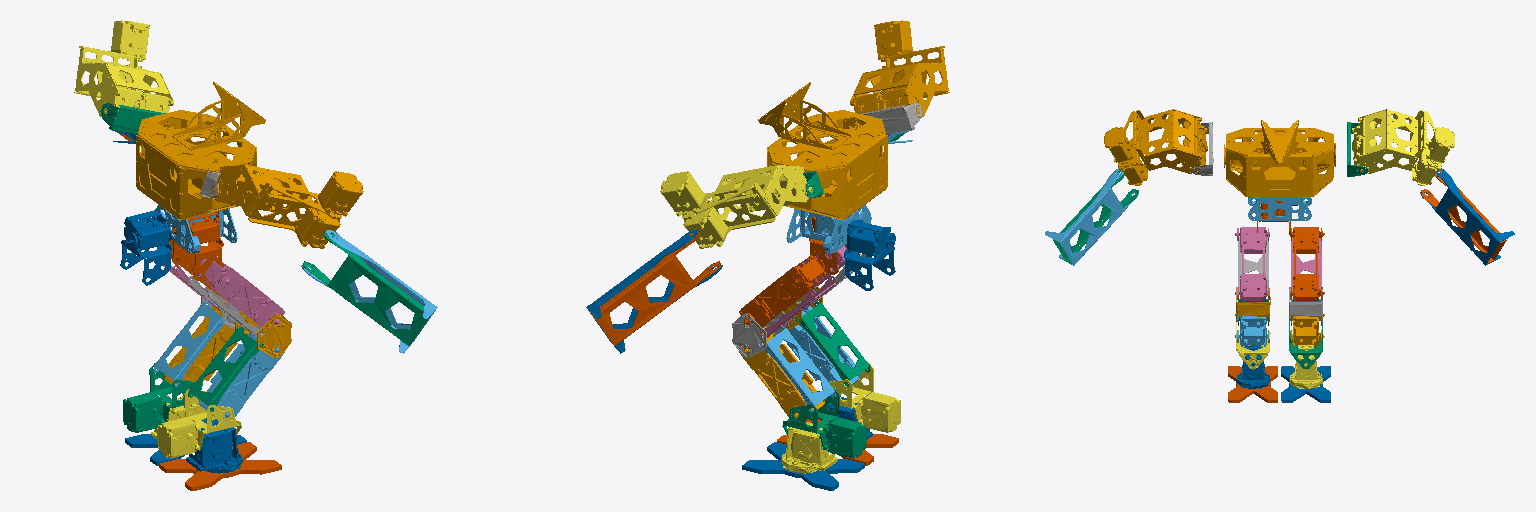
--- Render facts (derived) ---
The picture shows the robot from 3 angles, left to right: view 1: azimuth 30°, elevation 25°; view 2: azimuth 150°, elevation 25°; view 3: azimuth 270°, elevation 25°; orthographic projection.
Model ginko with 30 links and 29 joints (29 revolute), rooted at body_link0, posed every joint at zero.
Links seen in each view (by area): view 1: body_link0, arm_r_link1, arm_l_link1, arm_r_link3, leg_l_link0, leg_r_link6, leg_l_link6, leg_r_link1, leg_r_link4, leg_l_link5, leg_r_link5, leg_r_link8 (+9 smaller); view 2: body_link0, arm_l_link1, arm_r_link1, arm_l_link3, leg_l_link6, leg_l_link0, leg_l_link1, leg_r_link6, leg_l_link4, body_link1, leg_r_link5, leg_l_link5 (+9 smaller); view 3: body_link0, arm_l_link1, arm_r_link1, arm_r_link2, arm_l_link2, leg_r_link1, leg_l_link1, body_link1, arm_l_link3, arm_r_link3, leg_r_link8, leg_l_link8 (+8 smaller).
Link boxes in pixels (left/top/right/bottom): body_link0: left=136, top=82, right=265, bottom=219; arm_r_link1: left=211, top=165, right=363, bottom=248; arm_l_link1: left=74, top=20, right=173, bottom=118; arm_r_link3: left=302, top=232, right=434, bottom=345; leg_l_link0: left=120, top=210, right=171, bottom=285; leg_r_link6: left=157, top=389, right=241, bottom=458; leg_l_link6: left=123, top=363, right=194, bottom=432; leg_r_link1: left=198, top=257, right=284, bottom=327; leg_r_link4: left=198, top=327, right=284, bottom=420; leg_l_link5: left=153, top=301, right=229, bottom=386; leg_r_link5: left=188, top=327, right=263, bottom=411; leg_r_link8: left=159, top=442, right=281, bottom=490; body_link0: left=758, top=82, right=887, bottom=219; arm_l_link1: left=660, top=165, right=813, bottom=248; arm_r_link1: left=850, top=20, right=949, bottom=116; arm_l_link3: left=589, top=232, right=721, bottom=345; leg_l_link6: left=782, top=389, right=866, bottom=458; leg_l_link0: left=844, top=220, right=895, bottom=290; leg_l_link1: left=739, top=255, right=826, bottom=326; leg_r_link6: left=829, top=363, right=900, bottom=432; leg_l_link4: left=739, top=327, right=825, bottom=417; body_link1: left=786, top=205, right=871, bottom=253; leg_r_link5: left=794, top=301, right=870, bottom=386; leg_l_link5: left=760, top=327, right=835, bottom=411; body_link0: left=1224, top=120, right=1335, bottom=196; arm_l_link1: left=1352, top=109, right=1454, bottom=185; arm_r_link1: left=1104, top=109, right=1207, bottom=185; arm_r_link2: left=1045, top=168, right=1138, bottom=265; arm_l_link2: left=1420, top=168, right=1514, bottom=265; leg_r_link1: left=1235, top=227, right=1269, bottom=300; leg_l_link1: left=1290, top=227, right=1324, bottom=300; body_link1: left=1248, top=197, right=1311, bottom=220; arm_l_link3: left=1421, top=170, right=1506, bottom=263; arm_r_link3: left=1053, top=170, right=1138, bottom=263; leg_r_link8: left=1228, top=366, right=1277, bottom=402; leg_l_link8: left=1281, top=366, right=1330, bottom=402.
Bounding box of the posed robot: 0.2318 × 0.7537 × 0.4849 m (x, y, z).
28 mesh visuals loaded from 25 distinct referenced files (24 binary STL); not drawn: 2 (reference not matched to a file when rendering).

URDF robot description (ginko):
<?xml version="1.0" ?>
<!-- =================================================================================== -->
<!-- |    This document was autogenerated by xacro from ./urdf_viz/robot_gazebo.urdf.xacro | -->
<!-- |    EDITING THIS FILE BY HAND IS NOT RECOMMENDED                                 | -->
<!-- =================================================================================== -->
<robot name="ginko" xmlns:xacro="http://www.ros.org/wiki/xacro">
  <!-- Used for fixing robot to Gazebo 'base_link' -->
  <!-- <link name="base"/> -->
  <gazebo>
    <plugin filename="libgazebo_ros_control.so" name="gazebo_ros_control">
      <robotNamespace>/ginko</robotNamespace>
      <robotSimType>gazebo_ros_control/DefaultRobotHWSim</robotSimType>
    </plugin>
  </gazebo>
  <!-- chest -->
  <link name="body_link0">
    <collision>
      <origin rpy="0 0 0" xyz="0 0 0"/>
      <geometry>
        <mesh filename="package://ginko_description/meshes/stl/link00_chest.stl"/>
      </geometry>
    </collision>
    <visual>
      <origin rpy="0 0 0" xyz="0 0 0"/>
      <geometry>
        <mesh filename="package://ginko_description/meshes/stl/link00_chest.stl"/>
      </geometry>
    </visual>
    <inertial>
      <mass value="1.41502697"/>
      <origin rpy="0 0 0" xyz="0.00008301 0.00000908 0.03819562"/>
      <inertia ixx="0.00248548" ixy="-0.00000074" ixz="0.000003761" iyy="0.00121388" iyz="-0.00000042" izz="0.00287756"/>
    </inertial>
  </link>
  <!-- waist -->
  <link name="body_link1">
    <collision>
      <origin rpy="0 0 0" xyz="0 0 0"/>
      <geometry>
        <mesh filename="package://ginko_description/meshes/stl/link01_waist.stl"/>
      </geometry>
    </collision>
    <visual>
      <origin rpy="0 0 0" xyz="0 0 0"/>
      <geometry>
        <mesh filename="package://ginko_description/meshes/stl/link01_waist.stl"/>
      </geometry>
    </visual>
    <inertial>
      <mass value="0.33312665"/>
      <origin rpy="0 0 0" xyz="-0.01135452 -0.00000134 -0.02720222"/>
      <inertia ixx="0.00015328" ixy="0.00000003" ixz="0.00001078" iyy="0.00073745" iyz="0.00000000" izz="0.00073107"/>
    </inertial>
  </link>
  <joint name="body_joint1" type="revolute">
    <parent link="body_link0"/>
    <child link="body_link1"/>
    <origin rpy="0 0 0" xyz="0 0 0"/>
    <axis xyz="0 0 1"/>
    <limit effort="100.0" lower="-2.6" upper="2.6" velocity="10.0"/>
  </joint>
  <!-- chest -->
  <gazebo reference="body_link0">
    <kp>10000.0</kp>
    <kd>0.0</kd>
    <mu1>1.0</mu1>
    <maxVel>1.0</maxVel>
    <minDepth>0.0001</minDepth>
    <maxContacts>5</maxContacts>
    <selfCollide>false</selfCollide>
    <!-- <dampingFactor>0.01</dampingFactor> -->
  </gazebo>
  <transmission name="body_tran0">
    <type>transmission_interface/SimpleTransmission</type>
    <joint name="body_joint1">
      <hardwareInterface>hardware_interface/EffortJointInterface</hardwareInterface>
    </joint>
    <actuator name="body_motor0">
      <hardwareInterface>hardware_interface/EffortJointInterface</hardwareInterface>
      <mechanicalReduction>1</mechanicalReduction>
    </actuator>
  </transmission>
  <!-- waist -->
  <gazebo reference="body_link1">
    <kp>10000.0</kp>
    <kd>0.0</kd>
    <mu1>1.0</mu1>
    <maxVel>1.0</maxVel>
    <minDepth>0.0001</minDepth>
    <maxContacts>5</maxContacts>
    <selfCollide>false</selfCollide>
    <!-- <dampingFactor>0.01</dampingFactor> -->
  </gazebo>
  <!-- shoulder pitch. -->
  <link name="arm_l_link0">
    <collision>
      <origin rpy="0 0 0" xyz="0 0 0"/>
      <geometry>
        <mesh filename="package://ginko_description/meshes/stl/link09_l_arm01.stl"/>
      </geometry>
    </collision>
    <visual>
      <origin rpy="0 0 0" xyz="0 0 0"/>
      <geometry>
        <mesh filename="package://ginko_description/meshes/stl/link09_l_arm01.stl"/>
      </geometry>
    </visual>
    <inertial>
      <mass value="0.01356014"/>
      <origin rpy="0 0 0" xyz="-0.01125790 0.00529265 0.00000000"/>
      <inertia ixx="0.00000235" ixy="0.00000004" ixz="0.00000000" iyy="0.00001670" iyz="0.00000000" izz="0.00001606"/>
    </inertial>
  </link>
  <joint name="arm_l_joint0" type="revolute">
    <parent link="body_link0"/>
    <child link="arm_l_link0"/>
    <origin rpy="0 0.3927 0" xyz="0 0.10683 0.05115"/>
    <axis xyz="0 -1 0"/>
    <limit effort="100.0" lower="-2.6" upper="2.6" velocity="10.0"/>
  </joint>
  <!-- shoulder roll -->
  <link name="arm_l_link1">
    <collision>
      <origin rpy="0 0 0" xyz="0 0 0"/>
      <geometry>
        <mesh filename="package://ginko_description/meshes/stl/link10_l_arm02.stl"/>
      </geometry>
    </collision>
    <visual>
      <origin rpy="0 0 0" xyz="0 0 0"/>
      <geometry>
        <mesh filename="package://ginko_description/meshes/stl/link10_l_arm02.stl"/>
      </geometry>
    </visual>
    <inertial>
      <mass value="0.33139947"/>
      <origin rpy="0 0 0" xyz="-0.02612786 0.02650564 -0.06333369"/>
      <inertia ixx="0.00115128" ixy="0.00015366" ixz="-0.00031848" iyy="0.00113572" iyz="-0.00037104" izz="0.00064743"/>
    </inertial>
  </link>
  <joint name="arm_l_joint1" type="revolute">
    <parent link="arm_l_link0"/>
    <child link="arm_l_link1"/>
    <origin rpy="1.1781 0 0" xyz="0.035 0.0246 0"/>
    <axis xyz="1 0 0"/>
    <limit effort="100.0" lower="-0.85" upper="1.18" velocity="10.0"/>
  </joint>
  <!-- scissors -->
  <link name="arm_l_link2">
    <collision>
      <origin rpy="0 0 0" xyz="0 0 0"/>
      <geometry>
        <mesh filename="package://ginko_description/meshes/stl/link11_l_scissor01.stl"/>
      </geometry>
    </collision>
    <visual>
      <origin rpy="0 0 0" xyz="0 0 0"/>
      <geometry>
        <mesh filename="package://ginko_description/meshes/stl/link11_l_scissor01.stl"/>
      </geometry>
    </visual>
    <inertial>
      <mass value="0.03287850"/>
      <origin rpy="0 0 0" xyz="0.08234859 -0.030246866 0.00514112"/>
      <inertia ixx="0.00002277" ixy="-0.00000014" ixz="-0.00000058" iyy="0.00008197" iyz="-0.00000001" izz="0.00010105"/>
    </inertial>
  </link>
  <joint name="arm_l_joint2" type="revolute">
    <parent link="arm_l_link1"/>
    <child link="arm_l_link2"/>
    <origin rpy="0 0.7854 0" xyz="0.0092 0.0547 -0.11295"/>
    <axis xyz="0 1 0"/>
    <limit effort="100.0" lower="-2.36" upper="2.36" velocity="10.0"/>
  </joint>
  <link name="arm_l_link3">
    <collision>
      <origin rpy="0 0 0" xyz="0 0 0"/>
      <geometry>
        <mesh filename="package://ginko_description/meshes/stl/link12_l_scissor02.stl"/>
      </geometry>
    </collision>
    <visual>
      <origin rpy="0 0 0" xyz="0 0 0"/>
      <geometry>
        <mesh filename="package://ginko_description/meshes/stl/link12_l_scissor02.stl"/>
      </geometry>
    </visual>
    <inertial>
      <mass value="0.02936110"/>
      <origin rpy="0 0 0" xyz="0.07807033 0.02515230 -0.00665437"/>
      <inertia ixx="0.00001452" ixy="0.00000023" ixz="-0.00000245" iyy="0.00006407" iyz="-0.00000002" izz="0.00008024"/>
    </inertial>
  </link>
  <joint name="arm_l_joint3" type="revolute">
    <parent link="arm_l_link1"/>
    <child link="arm_l_link3"/>
    <origin rpy="0 0.7854 0" xyz="0.0092 -0.0018 -0.11295"/>
    <axis xyz="0 1 0"/>
    <limit effort="100.0" lower="-2.36" upper="2.36" velocity="10.0"/>
  </joint>
  <!-- LiDAR -->
  <link name="arm_l_urg_link">
    <collision>
      <origin rpy="0 0 0" xyz="0 0 0"/>
      <geometry>
        <mesh filename="package://ginko_description/meshes/stl/urg.stl"/>
      </geometry>
    </collision>
    <visual>
      <origin rpy="0 0 0" xyz="0 0 0"/>
      <geometry>
        <mesh filename="package://ginko_description/meshes/stl/urg.stl"/>
      </geometry>
    </visual>
    <inertial>
      <mass value="0.16705492"/>
      <origin rpy="0 0 0" xyz="-0.00014579 0.00000831 -0.02360505"/>
      <inertia ixx="0.00008801" ixy="0.00000000" ixz="-0.00000049" iyy="0.00008854" iyz="-0.00000004" izz="0.00006019"/>
    </inertial>
  </link>
  <!-- use zero-limited revolute joint for fixed joint (SDF) -->
  <joint name="arm_l_urg_joint" type="revolute">
    <parent link="arm_l_link1"/>
    <child link="arm_l_urg_link"/>
    <origin rpy="0 1.57 -1.57" xyz="-0.0456 -0.01715 -0.06795"/>
    <axis xyz="0 0 1"/>
    <limit effort="0.0" lower="0.0" upper="0.0" velocity="0.0"/>
  </joint>
  <!-- shoulder pitch. -->
  <gazebo reference="arm_l_link0">
    <kp>10000.0</kp>
    <kd>0.0</kd>
    <mu1>1.0</mu1>
    <maxVel>1.0</maxVel>
    <minDepth>0.0001</minDepth>
    <maxContacts>5</maxContacts>
    <selfCollide>false</selfCollide>
    <!-- <dampingFactor>0.01</dampingFactor> -->
  </gazebo>
  <!-- shoulder roll -->
  <gazebo reference="arm_l_link1">
    <kp>10000.0</kp>
    <kd>0.0</kd>
    <mu1>1.0</mu1>
    <maxVel>1.0</maxVel>
    <minDepth>0.0001</minDepth>
    <maxContacts>5</maxContacts>
    <selfCollide>false</selfCollide>
    <!-- <dampingFactor>0.01</dampingFactor> -->
  </gazebo>
  <!-- scissors -->
  <gazebo reference="arm_l_link2">
    <kp>10000.0</kp>
    <kd>0.0</kd>
    <mu1>1.0</mu1>
    <maxVel>1.0</maxVel>
    <minDepth>0.0001</minDepth>
    <maxContacts>5</maxContacts>
    <selfCollide>false</selfCollide>
    <!-- <dampingFactor>0.01</dampingFactor> -->
  </gazebo>
  <gazebo reference="arm_l_link3">
    <kp>10000.0</kp>
    <kd>0.0</kd>
    <mu1>1.0</mu1>
    <maxVel>1.0</maxVel>
    <minDepth>0.0001</minDepth>
    <maxContacts>5</maxContacts>
    <selfCollide>false</selfCollide>
    <!-- <dampingFactor>0.01</dampingFactor> -->
  </gazebo>
  <transmission name="arm_l_tran0">
    <type>transmission_interface/SimpleTransmission</type>
    <joint name="arm_l_joint0">
      <hardwareInterface>hardware_interface/EffortJointInterface</hardwareInterface>
    </joint>
    <actuator name="arm_l_motor0">
      <hardwareInterface>hardware_interface/EffortJointInterface</hardwareInterface>
      <mechanicalReduction>1</mechanicalReduction>
    </actuator>
  </transmission>
  <transmission name="arm_l_tran1">
    <type>transmission_interface/SimpleTransmission</type>
    <joint name="arm_l_joint1">
      <hardwareInterface>hardware_interface/EffortJointInterface</hardwareInterface>
    </joint>
    <actuator name="arm_l_motor1">
      <hardwareInterface>hardware_interface/EffortJointInterface</hardwareInterface>
      <mechanicalReduction>1</mechanicalReduction>
    </actuator>
  </transmission>
  <transmission name="arm_l_tran2">
    <type>transmission_interface/SimpleTransmission</type>
    <joint name="arm_l_joint2">
      <hardwareInterface>hardware_interface/EffortJointInterface</hardwareInterface>
    </joint>
    <actuator name="arm_l_motor2">
      <hardwareInterface>hardware_interface/EffortJointInterface</hardwareInterface>
      <mechanicalReduction>1</mechanicalReduction>
    </actuator>
  </transmission>
  <transmission name="arm_l_tran3">
    <type>transmission_interface/SimpleTransmission</type>
    <joint name="arm_l_joint3">
      <hardwareInterface>hardware_interface/EffortJointInterface</hardwareInterface>
    </joint>
    <actuator name="arm_l_motor3">
      <hardwareInterface>hardware_interface/EffortJointInterface</hardwareInterface>
      <mechanicalReduction>1</mechanicalReduction>
    </actuator>
  </transmission>
  <!-- shoulder pitch. -->
  <link name="arm_r_link0">
    <collision>
      <origin rpy="0 0 0" xyz="0 0 0"/>
      <geometry>
        <mesh filename="package://ginko_description/meshes/stl/link09_r_arm01.stl"/>
      </geometry>
    </collision>
    <visual>
      <origin rpy="0 0 0" xyz="0 0 0"/>
      <geometry>
        <mesh filename="package://ginko_description/meshes/stl/link09_r_arm01.stl"/>
      </geometry>
    </visual>
    <inertial>
      <mass value="0.01356014"/>
      <origin rpy="0 0 0" xyz="-0.01125790 -0.00529265 0.00000000"/>
      <inertia ixx="0.00000235" ixy="-0.00000004" ixz="0.00000000" iyy="0.00001670" iyz="0.00000000" izz="0.00001606"/>
    </inertial>
  </link>
  <joint name="arm_r_joint0" type="revolute">
    <parent link="body_link0"/>
    <child link="arm_r_link0"/>
    <origin rpy="0 0.3927 0" xyz="0 -0.10683 0.05115"/>
    <axis xyz="0 1 0"/>
    <limit effort="100.0" lower="-2.6" upper="2.6" velocity="10.0"/>
  </joint>
  <!-- shoulder roll -->
  <link name="arm_r_link1">
    <collision>
      <origin rpy="0 0 0" xyz="0 0 0"/>
      <geometry>
        <mesh filename="package://ginko_description/meshes/stl/link10_r_arm02.stl"/>
      </geometry>
    </collision>
    <visual>
      <origin rpy="0 0 0" xyz="0 0 0"/>
      <geometry>
        <mesh filename="package://ginko_description/meshes/stl/link10_r_arm02.stl"/>
      </geometry>
    </visual>
    <inertial>
      <mass value="0.33139947"/>
      <origin rpy="0 0 0" xyz="-0.02612786 -0.02650564 -0.06333369"/>
      <inertia ixx="0.00115128" ixy="-0.00015366" ixz="-0.00031848" iyy="0.00113572" iyz="0.00037104" izz="0.00064743"/>
    </inertial>
  </link>
  <joint name="arm_r_joint1" type="revolute">
    <parent link="arm_r_link0"/>
    <child link="arm_r_link1"/>
    <origin rpy="-1.1781 0 0" xyz="0.035 -0.0246 0"/>
    <axis xyz="1 0 0"/>
    <limit effort="100.0" lower="-0.85" upper="1.18" velocity="10.0"/>
  </joint>
  <!-- scissors -->
  <link name="arm_r_link2">
    <collision>
      <origin rpy="0 0 0" xyz="0 0 0"/>
      <geometry>
        <mesh filename="package://ginko_description/meshes/stl/link11_r_scissor01.stl"/>
      </geometry>
    </collision>
    <visual>
      <origin rpy="0 0 0" xyz="0 0 0"/>
      <geometry>
        <mesh filename="package://ginko_description/meshes/stl/link11_r_scissor01.stl"/>
      </geometry>
    </visual>
    <inertial>
      <mass value="0.03287850"/>
      <origin rpy="0 0 0" xyz="0.08234859 0.030246866 0.00514112"/>
      <inertia ixx="0.00002277" ixy="0.00000014" ixz="-0.00000058" iyy="0.00008197" iyz="0.00000001" izz="0.00010105"/>
    </inertial>
  </link>
  <joint name="arm_r_joint2" type="revolute">
    <parent link="arm_r_link1"/>
    <child link="arm_r_link2"/>
    <origin rpy="0 0.7854 0" xyz="0.0092 -0.0547 -0.11295"/>
    <axis xyz="0 -1 0"/>
    <limit effort="100.0" lower="-2.36" upper="2.36" velocity="10.0"/>
  </joint>
  <link name="arm_r_link3">
    <collision>
      <origin rpy="0 0 0" xyz="0 0 0"/>
      <geometry>
        <mesh filename="package://ginko_description/meshes/stl/link12_r_scissor02.stl"/>
      </geometry>
    </collision>
    <visual>
      <origin rpy="0 0 0" xyz="0 0 0"/>
      <geometry>
        <mesh filename="package://ginko_description/meshes/stl/link12_r_scissor02.stl"/>
      </geometry>
    </visual>
    <inertial>
      <mass value="0.02936110"/>
      <origin rpy="0 0 0" xyz="0.07807033 -0.02515230 -0.00665437"/>
      <inertia ixx="0.00001452" ixy="-0.00000023" ixz="-0.00000245" iyy="0.00006407" iyz="0.00000002" izz="0.00008024"/>
    </inertial>
  </link>
  <joint name="arm_r_joint3" type="revolute">
    <parent link="arm_r_link1"/>
    <child link="arm_r_link3"/>
    <origin rpy="0 0.7854 0" xyz="0.0092 0.0018 -0.11295"/>
    <axis xyz="0 -1 0"/>
    <limit effort="100.0" lower="-2.36" upper="2.36" velocity="10.0"/>
  </joint>
  <!-- LiDAR -->
  <link name="arm_r_urg_link">
    <collision>
      <origin rpy="0 0 0" xyz="0 0 0"/>
      <geometry>
        <mesh filename="package://ginko_description/meshes/stl/urg.stl"/>
      </geometry>
    </collision>
    <visual>
      <origin rpy="0 0 0" xyz="0 0 0"/>
      <geometry>
        <mesh filename="package://ginko_description/meshes/stl/urg.stl"/>
      </geometry>
    </visual>
    <inertial>
      <mass value="0.16705492"/>
      <origin rpy="0 0 0" xyz="-0.00014579 0.00000831 -0.02360505"/>
      <inertia ixx="0.00008801" ixy="0.00000000" ixz="-0.00000049" iyy="0.00008854" iyz="-0.00000004" izz="0.00006019"/>
    </inertial>
  </link>
  <!-- use zero-limited revolute joint for fixed joint (SDF) -->
  <joint name="arm_r_urg_joint" type="revolute">
    <parent link="arm_r_link1"/>
    <child link="arm_r_urg_link"/>
    <origin rpy="0 1.57 1.57" xyz="-0.0456 0.01715 -0.06795"/>
    <axis xyz="0 0 1"/>
    <limit effort="0.0" lower="0.0" upper="0.0" velocity="0.0"/>
  </joint>
  <!-- shoulder pitch. -->
  <gazebo reference="arm_r_link0">
    <kp>10000.0</kp>
    <kd>0.0</kd>
    <mu1>1.0</mu1>
    <maxVel>1.0</maxVel>
    <minDepth>0.0001</minDepth>
    <maxContacts>5</maxContacts>
    <selfCollide>false</selfCollide>
    <!-- <dampingFactor>0.01</dampingFactor> -->
  </gazebo>
  <!-- shoulder roll -->
  <gazebo reference="arm_r_link1">
    <kp>10000.0</kp>
    <kd>0.0</kd>
    <mu1>1.0</mu1>
    <maxVel>1.0</maxVel>
    <minDepth>0.0001</minDepth>
    <maxContacts>5</maxContacts>
    <selfCollide>false</selfCollide>
    <!-- <dampingFactor>0.01</dampingFactor> -->
  </gazebo>
  <!-- scissors -->
  <gazebo reference="arm_r_link2">
    <kp>10000.0</kp>
    <kd>0.0</kd>
    <mu1>1.0</mu1>
    <maxVel>1.0</maxVel>
    <minDepth>0.0001</minDepth>
    <maxContacts>5</maxContacts>
    <selfCollide>false</selfCollide>
    <!-- <dampingFactor>0.01</dampingFactor> -->
  </gazebo>
  <gazebo reference="arm_r_link3">
    <kp>10000.0</kp>
    <kd>0.0</kd>
    <mu1>1.0</mu1>
    <maxVel>1.0</maxVel>
    <minDepth>0.0001</minDepth>
    <maxContacts>5</maxContacts>
    <selfCollide>false</selfCollide>
    <!-- <dampingFactor>0.01</dampingFactor> -->
  </gazebo>
  <transmission name="arm_r_tran0">
    <type>transmission_interface/SimpleTransmission</type>
    <joint name="arm_r_joint0">
      <hardwareInterface>hardware_interface/EffortJointInterface</hardwareInterface>
    </joint>
    <actuator name="arm_r_motor0">
      <hardwareInterface>hardware_interface/EffortJointInterface</hardwareInterface>
      <mechanicalReduction>1</mechanicalReduction>
    </actuator>
  </transmission>
  <transmission name="arm_r_tran1">
    <type>transmission_interface/SimpleTransmission</type>
    <joint name="arm_r_joint1">
      <hardwareInterface>hardware_interface/EffortJointInterface</hardwareInterface>
    </joint>
    <actuator name="arm_r_motor1">
      <hardwareInterface>hardware_interface/EffortJointInterface</hardwareInterface>
      <mechanicalReduction>1</mechanicalReduction>
    </actuator>
  </transmission>
  <transmission name="arm_r_tran2">
    <type>transmission_interface/SimpleTransmission</type>
    <joint name="arm_r_joint2">
      <hardwareInterface>hardware_interface/EffortJointInterface</hardwareInterface>
    </joint>
    <actuator name="arm_r_motor2">
      <hardwareInterface>hardware_interface/EffortJointInterface</hardwareInterface>
      <mechanicalReduction>1</mechanicalReduction>
    </actuator>
  </transmission>
  <transmission name="arm_r_tran3">
    <type>transmission_interface/SimpleTransmission</type>
    <joint name="arm_r_joint3">
      <hardwareInterface>hardware_interface/EffortJointInterface</hardwareInterface>
    </joint>
    <actuator name="arm_r_motor3">
      <hardwareInterface>hardware_interface/EffortJointInterface</hardwareInterface>
      <mechanicalReduction>1</mechanicalReduction>
    </actuator>
  </transmission>
  <!-- Femoral -->
  <link name="leg_l_link0">
    <collision>
      <origin rpy="0 0 0" xyz="0 0 0"/>
      <geometry>
        <mesh filename="package://ginko_description/meshes/stl/link02_l_femoral.stl"/>
      </geometry>
    </collision>
    <visual>
      <origin rpy="0 0 0" xyz="0 0 0"/>
      <geometry>
        <mesh filename="package://ginko_description/meshes/stl/link02_l_femoral.stl"/>
      </geometry>
    </visual>
    <inertial>
      <mass value="0.03433352"/>
      <origin rpy="0 0 0" xyz="0.02930795 0.03723759 -0.02605386"/>
      <inertia ixx="0.00002443" ixy="-0.00000021" ixz="-0.00000021" iyy="0.00002287" iyz="-0.00000391" izz="0.00002983"/>
    </inertial>
  </link>
  <joint name="leg_l_joint0" type="revolute">
    <parent link="body_link1"/>
    <child link="leg_l_link0"/>
    <origin rpy="0 0 0" xyz="-0.0404 0.0 -0.0409"/>
    <axis xyz="-1 0 0"/>
    <limit effort="100.0" lower="-0.8" upper="1.1781" velocity="10.0"/>
  </joint>
  <!-- parallel link (upper-1st) -->
  <link name="leg_l_link1">
    <collision>
      <origin rpy="0 0 0" xyz="0 0 0"/>
      <geometry>
        <mesh filename="package://ginko_description/meshes/stl/link03_l_leg01.stl"/>
      </geometry>
    </collision>
    <visual>
      <origin rpy="0 0 0" xyz="0 0 0"/>
      <geometry>
        <mesh filename="package://ginko_description/meshes/stl/link03_l_leg01.stl"/>
      </geometry>
    </visual>
    <inertial>
      <mass value="0.18525692"/>
      <origin rpy="0 0 0" xyz="0.05000000 0.03285059 0.00068146"/>
      <inertia ixx="0.00041331" ixy="-0.00003605" ixz="-0.00000000" iyy="0.00027917" iyz="-0.00000184" izz="0.00066510"/>
    </inertial>
  </link>
  <joint name="leg_l_joint1" type="revolute">
    <parent link="leg_l_link0"/>
    <child link="leg_l_link1"/>
    <origin rpy="0 0.7854 0" xyz="0.0433 0.0175 -0.0481"/>
    <axis xyz="0 -1 0"/>
    <limit effort="100.0" lower="-1.3" upper="0.7854" velocity="10.0"/>
  </joint>
  <!-- parallel link (upper-2nd) -->
  <link name="leg_l_link2">
    <collision>
      <origin rpy="0 0 0" xyz="0 0 0"/>
      <geometry>
        <mesh filename="package://ginko_description/meshes/stl/link04_l_leg02.stl"/>
      </geometry>
    </collision>
    <visual>
      <origin rpy="0 0 0" xyz="0 0 0"/>
      <geometry>
        <mesh filename="package://ginko_description/meshes/stl/link04_l_leg02.stl"/>
      </geometry>
    </visual>
    <inertial>
      <mass value="0.01646643"/>
      <origin rpy="0 0 0" xyz="0.05000000 0.02495100 -0.00491150"/>
      <inertia ixx="0.00000640" ixy="0.00000000" ixz="0.00000000" iyy="0.00001642" iyz="0.00000000" izz="0.00002264"/>
    </inertial>
  </link>
  <joint name="leg_l_joint2" type="revolute">
    <parent link="leg_l_link0"/>
    <child link="leg_l_link2"/>
    <origin rpy="0 0.7854 0" xyz="0.022 0.0175 -0.06015"/>
    <axis xyz="0 -1 0"/>
    <limit effort="100.0" lower="-3.141593" upper="3.141593" velocity="10.0"/>
    <mimic joint="leg_l_joint1" multiplier="1" offset="0"/>
  </joint>
  <!-- knee -->
  <link name="leg_l_link3">
    <collision>
      <origin rpy="0 0 0" xyz="0 0 0"/>
      <geometry>
        <mesh filename="package://ginko_description/meshes/stl/link05_l_knee.stl"/>
      </geometry>
    </collision>
    <visual>
      <origin rpy="0 0 0" xyz="0 0 0"/>
      <geometry>
        <mesh filename="package://ginko_description/meshes/stl/link05_l_knee.stl"/>
      </geometry>
    </visual>
    <inertial>
      <mass value="0.01781176"/>
      <origin rpy="0 0 0" xyz="0.00393357 0.02364163 -0.01930000"/>
      <inertia ixx="0.00001301" ixy="0.00000008" ixz="0.00000000" iyy="0.00000700" iyz="0.00000000" izz="0.00001388"/>
    </inertial>
  </link>
  <joint name="leg_l_joint3" type="revolute">
    <parent link="leg_l_link1"/>
    <child link="leg_l_link3"/>
    <origin rpy="0 -0.7854 0" xyz="0.1 0.0 0.0"/>
    <axis xyz="0 1 0"/>
    <limit effort="100.0" lower="-3.141593" upper="3.141593" velocity="10.0"/>
    <mimic joint="leg_l_joint1" multiplier="1" offset="0"/>
  </joint>
  <!-- parallel link (lower-1st) -->
  <link name="leg_l_link4">
    <collision>
      <origin rpy="0 0 0" xyz="0 0 0"/>
      <geometry>
        <mesh filename="package://ginko_description/meshes/stl/link03_l_leg01.stl"/>
      </geometry>
    </collision>
    <visual>
      <origin rpy="0 0 0" xyz="0 0 0"/>
      <geometry>
        <mesh filename="package://ginko_description/meshes/stl/link03_l_leg01.stl"/>
      </geometry>
    </visual>
    <inertial>
      <mass value="0.18525692"/>
      <origin rpy="0 0 0" xyz="0.05000000 0.03285059 0.00068146"/>
      <inertia ixx="0.00041331" ixy="-0.00003605" ixz="-0.00000000" iyy="0.00027917" iyz="-0.00000184" izz="0.00066510"/>
    </inertial>
  </link>
  <joint name="leg_l_joint4" type="revolute">
    <parent link="leg_l_link3"/>
    <child link="leg_l_link4"/>
    <origin rpy="0 2.3562 0" xyz="0 0 -0.0386"/>
    <axis xyz="0 -1 0"/>
    <limit effort="100.0" lower="-0.7854" upper="1.3" velocity="10.0"/>
  </joint>
  <!-- parallel link (lower-2nd) -->
  <link name="leg_l_link5">
    <collision>
      <origin rpy="0 0 0" xyz="0 0 0"/>
      <geometry>
        <mesh filename="package://ginko_description/meshes/stl/link04_l_leg02.stl"/>
      </geometry>
    </collision>
    <visual>
      <origin rpy="0 0 0" xyz="0 0 0"/>
      <geometry>
        <mesh filename="package://ginko_description/meshes/stl/link04_l_leg02.stl"/>
      </geometry>
    </visual>
    <inertial>
      <mass value="0.01646643"/>
      <origin rpy="0 0 0" xyz="0.05000000 0.02495100 -0.00491150"/>
      <inertia ixx="0.00000640" ixy="0.00000000" ixz="0.00000000" iyy="0.00001642" iyz="0.00000000" izz="0.00002264"/>
    </inertial>
  </link>
  <joint name="leg_l_joint5" type="revolute">
    <parent link="leg_l_link3"/>
    <child link="leg_l_link5"/>
    <origin rpy="0 2.3562 0" xyz="-0.0213 0 -0.02655"/>
    <axis xyz="0 -1 0"/>
    <limit effort="100.0" lower="-3.141593" upper="3.141593" velocity="10.0"/>
    <mimic joint="leg_l_joint4" multiplier="1" offset="0"/>
  </joint>
  <!-- toe -->
  <link name="leg_l_link6">
    <collision>
      <origin rpy="0 0 0" xyz="0 0 0"/>
      <geometry>
        <mesh filename="package://ginko_description/meshes/stl/link06_l_toe01.stl"/>
      </geometry>
    </collision>
    <visual>
      <origin rpy="0 0 0" xyz="0 0 0"/>
      <geometry>
        <mesh filename="package://ginko_description/meshes/stl/link06_l_toe01.stl"/>
      </geometry>
    </visual>
    <inertial>
      <mass value="0.08799204"/>
      <origin rpy="0 0 0" xyz="-0.04166125 0.02463880 -0.02586249"/>
      <inertia ixx="0.00002815" ixy="-0.00000041" ixz="0.00000980" iyy="0.00006846" iyz="-0.00000026" izz="0.00006529"/>
    </inertial>
  </link>
  <joint name="leg_l_joint6" type="revolute">
    <parent link="leg_l_link4"/>
    <child link="leg_l_link6"/>
    <origin rpy="0 -2.3562 0" xyz="0.1 0.0 0.0"/>
    <axis xyz="0 1 0"/>
    <limit effort="100.0" lower="-3.141593" upper="3.141593" velocity="10.0"/>
    <mimic joint="leg_l_joint4" multiplier="1" offset="0"/>
  </joint>
  <link name="leg_l_link7">
    <collision>
      <origin rpy="0 0 0" xyz="0 0 0"/>
      <geometry>
        <mesh filename="package://ginko_description/meshes/stl/link07_l_toe02.stl"/>
      </geometry>
    </collision>
    <visual>
      <origin rpy="0 0 0" xyz="0 0 0"/>
      <geometry>
        <mesh filename="package://ginko_description/meshes/stl/link07_l_toe02.stl"/>
      </geometry>
    </visual>
    <inertial>
      <mass value="0.10920041"/>
      <origin rpy="0 0 0" xyz="0.02658756 0.00000053 -0.01782468"/>
      <inertia ixx="0.00003853" ixy="0.00000000" ixz="-0.00000479" iyy="0.00005192" iyz="0.00000000" izz="0.00003521"/>
    </inertial>
  </link>
  <joint name="leg_l_joint7" type="revolute">
    <parent link="leg_l_link6"/>
    <child link="leg_l_link7"/>
    <origin rpy="0 0 0" xyz="-0.028 0.02475 -0.0391"/>
    <axis xyz="-1 0 0"/>
    <limit effort="100.0" lower="-1.6" upper="1.6" velocity="10.0"/>
  </joint>
  <link name="leg_l_link8">
    <collision>
      <origin rpy="0 0 0" xyz="0 0 0"/>
      <geometry>
        <mesh filename="package://ginko_description/meshes/stl/link08_l_toe03.stl"/>
      </geometry>
    </collision>
    <visual>
      <origin rpy="0 0 0" xyz="0 0 0"/>
      <geometry>
        <mesh filename="package://ginko_description/meshes/stl/link08_l_toe03.stl"/>
      </geometry>
    </visual>
    <inertial>
      <mass value="0.05363111"/>
      <origin rpy="0 0 0" xyz="0.00000000 0.00000000 -0.00269342"/>
      <inertia ixx="0.00002877" ixy="0.00000000" ixz="0.00000000" iyy="0.00007083" iyz="-0.00000000" izz="0.00009934"/>
    </inertial>
  </link>
  <joint name="leg_l_joint8" type="revolute">
    <parent link="leg_l_link7"/>
    <child link="leg_l_link8"/>
    <origin rpy="0 0 0" xyz="0.0342 0 -0.04"/>
    <axis xyz="0 0 1"/>
    <limit effort="100.0" lower="-2.6" upper="2.6" velocity="10.0"/>
  </joint>
  <!-- Link conencts from body. Femoral first. -->
  <gazebo reference="leg_l_link0">
    <kp>10000.0</kp>
    <kd>0.0</kd>
    <mu1>0.0</mu1>
    <maxVel>3.0</maxVel>
    <minDepth>0.0001</minDepth>
    <maxContacts>5</maxContacts>
    <selfCollide>false</selfCollide>
    <dampingFactor>0.01</dampingFactor>
  </gazebo>
  <!-- parallel link (upper-1st) -->
  <gazebo reference="leg_l_link1">
    <kp>1000.0</kp>
    <kd>0.0</kd>
    <mu1>0.0</mu1>
    <maxVel>3.0</maxVel>
    <minDepth>0.0001</minDepth>
    <maxContacts>5</maxContacts>
    <selfCollide>true</selfCollide>
    <dampingFactor>0.01</dampingFactor>
  </gazebo>
  <!-- parallel link (upper-2nd) -->
  <gazebo reference="leg_l_link2">
    <kp>10000.0</kp>
    <kd>0.0</kd>
    <mu1>0.0</mu1>
    <maxVel>3.0</maxVel>
    <minDepth>0.0001</minDepth>
    <maxContacts>5</maxContacts>
    <selfCollide>false</selfCollide>
    <dampingFactor>0.01</dampingFactor>
  </gazebo>
  <!-- knee -->
  <gazebo reference="leg_l_link3">
    <kp>10000.0</kp>
    <kd>0.0</kd>
    <mu1>0.3</mu1>
    <maxVel>3.0</maxVel>
    <minDepth>0.0001</minDepth>
    <maxContacts>5</maxContacts>
    <selfCollide>false</selfCollide>
    <dampingFactor>0.01</dampingFactor>
  </gazebo>
  <!-- parallel link (lower-1st) -->
  <gazebo reference="leg_l_link4">
    <kp>1000.0</kp>
    <kd>0.0</kd>
    <mu1>0.0</mu1>
    <maxVel>3.0</maxVel>
    <minDepth>0.0001</minDepth>
    <maxContacts>5</maxContacts>
    <selfCollide>true</selfCollide>
    <dampingFactor>0.01</dampingFactor>
  </gazebo>
  <!-- parallel link (lower-2nd) -->
  <gazebo reference="leg_l_link5">
    <kp>10000.0</kp>
    <kd>0.0</kd>
    <mu1>0.0</mu1>
    <maxVel>3.0</maxVel>
    <minDepth>0.0001</minDepth>
    <maxContacts>5</maxContacts>
    <selfCollide>false</selfCollide>
    <dampingFactor>0.01</dampingFactor>
  </gazebo>
  <!-- toe -->
  <gazebo reference="leg_l_link6">
    <kp>10000.0</kp>
    <kd>0.0</kd>
    <mu1>0.0</mu1>
    <maxVel>3.0</maxVel>
    <minDepth>0.0001</minDepth>
    <maxContacts>5</maxContacts>
    <selfCollide>false</selfCollide>
    <dampingFactor>0.01</dampingFactor>
  </gazebo>
  <gazebo reference="leg_l_link7">
    <kp>10000.0</kp>
    <kd>0.0</kd>
    <mu1>0.0</mu1>
    <maxVel>3.0</maxVel>
    <minDepth>0.0001</minDepth>
    <maxContacts>5</maxContacts>
    <selfCollide>false</selfCollide>
    <dampingFactor>0.01</dampingFactor>
  </gazebo>
  <gazebo reference="leg_l_link8">
    <kp>10000.0</kp>
    <kd>0.0</kd>
    <mu1>1.0</mu1>
    <maxVel>3.0</maxVel>
    <minDepth>0.0001</minDepth>
    <maxContacts>5</maxContacts>
    <selfCollide>false</selfCollide>
    <dampingFactor>0.01</dampingFactor>
  </gazebo>
  <!-- Joints. Femoral first. -->
  <transmission name="leg_l_tran0">
    <type>transmission_interface/SimpleTransmission</type>
    <joint name="leg_l_joint0">
      <hardwareInterface>hardware_interface/EffortJointInterface</hardwareInterface>
    </joint>
    <actuator name="leg_l_motor0">
      <hardwareInterface>hardware_interface/EffortJointInterface</hardwareInterface>
      <mechanicalReduction>1</mechanicalReduction>
    </actuator>
  </transmission>
  <!-- parallel link (upper-1st) -->
  <transmission name="leg_l_tran1">
    <type>transmission_interface/SimpleTransmission</type>
    <joint name="leg_l_joint1">
      <hardwareInterface>hardware_interface/EffortJointInterface</hardwareInterface>
    </joint>
    <actuator name="leg_l_motor1">
      <hardwareInterface>hardware_interface/EffortJointInterface</hardwareInterface>
      <mechanicalReduction>1</mechanicalReduction>
    </actuator>
  </transmission>
  <!-- parallel link (upper-2nd) -->
  <!-- 		<gazebo>
			<plugin name="mimic_plugin" filename="libgazebo_mimic_plugin.so">
				<joint>${name}_joint1</joint>
				<mimicJoint>${name}_joint2</mimicJoint>
				<link>${name}_link1</link>
				<mimicLink>${name}_link2</mimicLink>
				<multiplier>1.0</multiplier>
			</plugin>
		</gazebo> -->
  <!-- knee -->
  <!-- 		<gazebo>
			<plugin name="mimic_plugin" filename="libgazebo_mimic_plugin.so">
				<joint>${name}_joint1</joint>
				<mimicJoint>${name}_joint3</mimicJoint>
				<link>${name}_link1</link>
				<mimicLink>${name}_link3</mimicLink>
				<multiplier>1.0</multiplier>
			</plugin>
		</gazebo> -->
  <!-- parallel link (lower-1st) -->
  <transmission name="leg_l_tran2">
    <type>transmission_interface/SimpleTransmission</type>
    <joint name="leg_l_joint4">
      <hardwareInterface>hardware_interface/EffortJointInterface</hardwareInterface>
    </joint>
    <actuator name="leg_l_motor2">
      <hardwareInterface>hardware_interface/EffortJointInterface</hardwareInterface>
      <mechanicalReduction>1</mechanicalReduction>
    </actuator>
  </transmission>
  <!-- parallel link (lower-2nd) -->
  <!-- 		<gazebo>
			<plugin name="mimic_plugin" filename="libgazebo_mimic_plugin.so">
				<joint>${name}_joint4</joint>
				<mimicJoint>${name}_joint5</mimicJoint>
				<link>${name}_link4</link>
				<mimicLink>${name}_link5</mimicLink>
				<multiplier>1.0</multiplier>
			</plugin>
		</gazebo> -->
  <!-- toe -->
  <!-- 		<gazebo>
			<plugin name="mimic_plugin" filename="libgazebo_mimic_plugin.so">
				<joint>${name}_joint4</joint>
				<mimicJoint>${name}_joint6</mimicJoint>
				<link>${name}_link4</link>
				<mimicLink>${name}_link6</mimicLink>
				<multiplier>1.0</multiplier>
			</plugin>
		</gazebo> -->
  <transmission name="leg_l_tran3">
    <type>transmission_interface/SimpleTransmission</type>
    <joint name="leg_l_joint7">
      <hardwareInterface>hardware_interface/EffortJointInterface</hardwareInterface>
    </joint>
    <actuator name="leg_l_motor3">
      <hardwareInterface>hardware_interface/EffortJointInterface</hardwareInterface>
      <mechanicalReduction>1</mechanicalReduction>
    </actuator>
  </transmission>
  <transmission name="leg_l_tran4">
    <type>transmission_interface/SimpleTransmission</type>
    <joint name="leg_l_joint8">
      <hardwareInterface>hardware_interface/EffortJointInterface</hardwareInterface>
    </joint>
    <actuator name="leg_l_motor4">
      <hardwareInterface>hardware_interface/EffortJointInterface</hardwareInterface>
      <mechanicalReduction>1</mechanicalReduction>
    </actuator>
  </transmission>
  <!-- 		<transmission name="${name}_tran1_rev">
			<type>transmission_interface/SimpleTransmission</type>
			<joint name="${name}_joint1_rev">
				<hardwareInterface>hardware_interface/EffortJointInterface</hardwareInterface>
			</joint>
			<actuator name="${name}_motor1_rev">
				<hardwareInterface>hardware_interface/EffortJointInterface</hardwareInterface>
				<mechanicalReduction>1</mechanicalReduction>
			</actuator>
		</transmission> -->
  <!-- 		<gazebo>
		  	<arg base_joint_name="${name}_joint1"/>
		  	<arg mimic_joint_name="${name}_joint1_rev"/>
		  	<arg base_link_name="${name}_link1"/>
		  	<arg mimic_link_name="${name}_link1_rev"/>
			<plugin name="mimic_plugin" filename="libgazebo_mimic_plugin.so">
				<joint>${base_joint_name}</joint>
				<mimicJoint>${mimic_joint_name}</mimicJoint>
				<link>${base_link_name}</link>
				<mimicLink>${mimic_link_name}</mimicLink>
				<multiplier>-1.0</multiplier>
			</plugin>
		</gazebo> -->
  <!-- Femoral -->
  <link name="leg_r_link0">
    <collision>
      <origin rpy="0 0 0" xyz="0 0 0"/>
      <geometry>
        <mesh filename="package://ginko_description/meshes/stl/link02_r_femoral.stl"/>
      </geometry>
    </collision>
    <visual>
      <origin rpy="0 0 0" xyz="0 0 0"/>
      <geometry>
        <mesh filename="package://ginko_description/meshes/stl/link02_r_femoral.stl"/>
      </geometry>
    </visual>
    <inertial>
      <mass value="0.03431457"/>
      <origin rpy="0 0 0" xyz="-0.02905818 -0.03723481 -0.02604954"/>
      <inertia ixx="0.00002441" ixy="0.00000001" ixz="0.00000021" iyy="0.00002285" iyz="0.00000391" izz="0.00002980"/>
    </inertial>
  </link>
  <joint name="leg_r_joint0" type="revolute">
    <parent link="body_link1"/>
    <child link="leg_r_link0"/>
    <origin rpy="0 0 0" xyz="0.0205 0.0 -0.0409"/>
    <axis xyz="1 0 0"/>
    <limit effort="100.0" lower="-1.1781" upper="0.8" velocity="10.0"/>
  </joint>
  <!-- parallel link (upper-1st) -->
  <link name="leg_r_link1">
    <collision>
      <origin rpy="0 0 0" xyz="0 0 0"/>
      <geometry>
        <mesh filename="package://ginko_description/meshes/stl/link03_r_leg01.stl"/>
      </geometry>
    </collision>
    <visual>
      <origin rpy="0 0 0" xyz="0 0 0"/>
      <geometry>
        <mesh filename="package://ginko_description/meshes/stl/link03_r_leg01.stl"/>
      </geometry>
    </visual>
    <inertial>
      <mass value="0.18525690"/>
      <origin rpy="0 0 0" xyz="0.05000000 -0.01719078 0.00068146"/>
      <inertia ixx="0.00055489" ixy="-0.00004242" ixz="0.00000000" iyy="0.00027917" iyz="-0.00000175" izz="0.00081028"/>
    </inertial>
  </link>
  <joint name="leg_r_joint1" type="revolute">
    <parent link="leg_r_link0"/>
    <child link="leg_r_link1"/>
    <origin rpy="0 0.7854 0" xyz="-0.0176 -0.0175 -0.0481"/>
    <axis xyz="0 1 0"/>
    <limit effort="100.0" lower="-0.7854" upper="1.3" velocity="10.0"/>
  </joint>
  <!-- parallel link (upper-2nd) -->
  <link name="leg_r_link2">
    <collision>
      <origin rpy="0 0 0" xyz="0 0 0"/>
      <geometry>
        <mesh filename="package://ginko_description/meshes/stl/link04_r_leg02.stl"/>
      </geometry>
    </collision>
    <visual>
      <origin rpy="0 0 0" xyz="0 0 0"/>
      <geometry>
        <mesh filename="package://ginko_description/meshes/stl/link04_r_leg02.stl"/>
      </geometry>
    </visual>
    <inertial>
      <mass value="0.01646643"/>
      <origin rpy="0 0 0" xyz="0.05000000 -0.02495100 -0.00491150"/>
      <inertia ixx="0.00000640" ixy="0.00000000" ixz="0.00000000" iyy="0.00001642" iyz="0.00000000" izz="0.00002264"/>
    </inertial>
  </link>
  <joint name="leg_r_joint2" type="revolute">
    <parent link="leg_r_link0"/>
    <child link="leg_r_link2"/>
    <origin rpy="0 0.7854 0" xyz="-0.0389 -0.0175 -0.06015"/>
    <axis xyz="0 1 0"/>
    <limit effort="100.0" lower="-3.141593" upper="3.141593" velocity="10.0"/>
    <mimic joint="leg_r_joint1" multiplier="1" offset="0"/>
  </joint>
  <!-- knee -->
  <link name="leg_r_link3">
    <collision>
      <origin rpy="0 0 0" xyz="0 0 0"/>
      <geometry>
        <mesh filename="package://ginko_description/meshes/stl/link05_r_knee.stl"/>
      </geometry>
    </collision>
    <visual>
      <origin rpy="0 0 0" xyz="0 0 0"/>
      <geometry>
        <mesh filename="package://ginko_description/meshes/stl/link05_r_knee.stl"/>
      </geometry>
    </visual>
    <inertial>
      <mass value="0.01781176"/>
      <origin rpy="0 0 0" xyz="0.00393357 -0.02364163 -0.01930000"/>
      <inertia ixx="0.00001301" ixy="-0.00000008" ixz="0.00000000" iyy="0.00000700" iyz="0.00000000" izz="0.00001388"/>
    </inertial>
  </link>
  <joint name="leg_r_joint3" type="revolute">
    <parent link="leg_r_link1"/>
    <child link="leg_r_link3"/>
    <origin rpy="0 -0.7854 0" xyz="0.1 0.0 0.0"/>
    <axis xyz="0 -1 0"/>
    <limit effort="100.0" lower="-3.141593" upper="3.141593" velocity="10.0"/>
    <mimic joint="leg_r_joint1" multiplier="1" offset="0"/>
  </joint>
  <!-- parallel link (lower-1st) -->
  <link name="leg_r_link4">
    <collision>
      <origin rpy="0 0 0" xyz="0 0 0"/>
      <geometry>
        <mesh filename="package://ginko_description/meshes/stl/link03_r_leg01.stl"/>
      </geometry>
    </collision>
    <visual>
      <origin rpy="0 0 0" xyz="0 0 0"/>
      <geometry>
        <mesh filename="package://ginko_description/meshes/stl/link03_r_leg01.stl"/>
      </geometry>
    </visual>
    <inertial>
      <mass value="0.18525690"/>
      <origin rpy="0 0 0" xyz="0.05000000 -0.01719078 0.00068146"/>
      <inertia ixx="0.00055489" ixy="-0.00004242" ixz="0.00000000" iyy="0.00027917" iyz="-0.00000175" izz="0.00081028"/>
    </inertial>
  </link>
  <joint name="leg_r_joint4" type="revolute">
    <parent link="leg_r_link3"/>
    <child link="leg_r_link4"/>
    <origin rpy="0 2.3562 0" xyz="0 0 -0.0386"/>
    <axis xyz="0 1 0"/>
    <limit effort="100.0" lower="-1.3" upper="0.7854" velocity="10.0"/>
  </joint>
  <!-- parallel link (lower-2nd) -->
  <link name="leg_r_link5">
    <collision>
      <origin rpy="0 0 0" xyz="0 0 0"/>
      <geometry>
        <mesh filename="package://ginko_description/meshes/stl/link04_r_leg02.stl"/>
      </geometry>
    </collision>
    <visual>
      <origin rpy="0 0 0" xyz="0 0 0"/>
      <geometry>
        <mesh filename="package://ginko_description/meshes/stl/link04_r_leg02.stl"/>
      </geometry>
    </visual>
    <inertial>
      <mass value="0.01646643"/>
      <origin rpy="0 0 0" xyz="0.05000000 -0.02495100 -0.00491150"/>
      <inertia ixx="0.00000640" ixy="0.00000000" ixz="0.00000000" iyy="0.00001642" iyz="0.00000000" izz="0.00002264"/>
    </inertial>
  </link>
  <joint name="leg_r_joint5" type="revolute">
    <parent link="leg_r_link3"/>
    <child link="leg_r_link5"/>
    <origin rpy="0 2.3562 0" xyz="-0.0213 0 -0.02655"/>
    <axis xyz="0 1 0"/>
    <limit effort="100.0" lower="-3.141593" upper="3.141593" velocity="10.0"/>
    <mimic joint="leg_r_joint4" multiplier="1" offset="0"/>
  </joint>
  <!-- toe -->
  <link name="leg_r_link6">
    <collision>
      <origin rpy="0 0 0" xyz="0 0 0"/>
      <geometry>
        <mesh filename="package://ginko_description/meshes/stl/link06_r_toe01.stl"/>
      </geometry>
    </collision>
    <visual>
      <origin rpy="0 0 0" xyz="0 0 0"/>
      <geometry>
        <mesh filename="package://ginko_description/meshes/stl/link06_r_toe01.stl"/>
      </geometry>
    </visual>
    <inertial>
      <mass value="0.08799204"/>
      <origin rpy="0 0 0" xyz="-0.04166125 -0.02463880 -0.02586249"/>
      <inertia ixx="0.00002815" ixy="0.00000041" ixz="0.00000980" iyy="0.00006846" iyz="0.00000026" izz="0.00006529"/>
    </inertial>
  </link>
  <joint name="leg_r_joint6" type="revolute">
    <parent link="leg_r_link4"/>
    <child link="leg_r_link6"/>
    <origin rpy="0 -2.3562 0" xyz="0.1 0.0 0.0"/>
    <axis xyz="0 -1 0"/>
    <limit effort="100.0" lower="-3.141593" upper="3.141593" velocity="10.0"/>
    <mimic joint="leg_r_joint4" multiplier="1" offset="0"/>
  </joint>
  <link name="leg_r_link7">
    <collision>
      <origin rpy="0 0 0" xyz="0 0 0"/>
      <geometry>
        <mesh filename="package://ginko_description/meshes/stl/link07_r_toe02.stl"/>
      </geometry>
    </collision>
    <visual>
      <origin rpy="0 0 0" xyz="0 0 0"/>
      <geometry>
        <mesh filename="package://ginko_description/meshes/stl/link07_r_toe02.stl"/>
      </geometry>
    </visual>
    <inertial>
      <mass value="0.10920041"/>
      <origin rpy="0 0 0" xyz="0.02658756 -0.00000053 -0.01782468"/>
      <inertia ixx="0.00003853" ixy="0.00000000" ixz="-0.00000479" iyy="0.00005192" iyz="0.00000000" izz="0.00003521"/>
    </inertial>
  </link>
  <joint name="leg_r_joint7" type="revolute">
    <parent link="leg_r_link6"/>
    <child link="leg_r_link7"/>
    <origin rpy="0 0 0" xyz="-0.028 -0.02475 -0.0391"/>
    <axis xyz="-1 0 0"/>
    <limit effort="100.0" lower="-1.6" upper="1.6" velocity="10.0"/>
  </joint>
  <link name="leg_r_link8">
    <collision>
      <origin rpy="0 0 0" xyz="0 0 0"/>
      <geometry>
        <mesh filename="package://ginko_description/meshes/stl/link08_r_toe03.stl"/>
      </geometry>
    </collision>
    <visual>
      <origin rpy="0 0 0" xyz="0 0 0"/>
      <geometry>
        <mesh filename="package://ginko_description/meshes/stl/link08_r_toe03.stl"/>
      </geometry>
    </visual>
    <inertial>
      <mass value="0.05363111"/>
      <origin rpy="0 0 0" xyz="0.00000000 0.00000000 -0.00269342"/>
      <inertia ixx="0.00002877" ixy="0.00000000" ixz="0.00000000" iyy="0.00007083" iyz="-0.00000000" izz="0.00009934"/>
    </inertial>
  </link>
  <joint name="leg_r_joint8" type="revolute">
    <parent link="leg_r_link7"/>
    <child link="leg_r_link8"/>
    <origin rpy="0 0 0" xyz="0.0342 0 -0.04"/>
    <axis xyz="0 0 1"/>
    <limit effort="100.0" lower="-2.6" upper="2.6" velocity="10.0"/>
  </joint>
  <!-- Link conencts from body. Femoral first. -->
  <gazebo reference="leg_r_link0">
    <kp>10000.0</kp>
    <kd>0.0</kd>
    <mu1>0.0</mu1>
    <maxVel>3.0</maxVel>
    <minDepth>0.0001</minDepth>
    <maxContacts>5</maxContacts>
    <selfCollide>false</selfCollide>
    <dampingFactor>0.01</dampingFactor>
  </gazebo>
  <!-- parallel link (upper-1st) -->
  <gazebo reference="leg_r_link1">
    <kp>1000.0</kp>
    <kd>0.0</kd>
    <mu1>0.0</mu1>
    <maxVel>3.0</maxVel>
    <minDepth>0.0001</minDepth>
    <maxContacts>5</maxContacts>
    <selfCollide>true</selfCollide>
    <dampingFactor>0.01</dampingFactor>
  </gazebo>
  <!-- parallel link (upper-2nd) -->
  <gazebo reference="leg_r_link2">
    <kp>10000.0</kp>
    <kd>0.0</kd>
    <mu1>0.0</mu1>
    <maxVel>3.0</maxVel>
    <minDepth>0.0001</minDepth>
    <maxContacts>5</maxContacts>
    <selfCollide>false</selfCollide>
    <dampingFactor>0.01</dampingFactor>
  </gazebo>
  <!-- knee -->
  <gazebo reference="leg_r_link3">
    <kp>10000.0</kp>
    <kd>0.0</kd>
    <mu1>0.3</mu1>
    <maxVel>3.0</maxVel>
    <minDepth>0.0001</minDepth>
    <maxContacts>5</maxContacts>
    <selfCollide>false</selfCollide>
    <dampingFactor>0.01</dampingFactor>
  </gazebo>
  <!-- parallel link (lower-1st) -->
  <gazebo reference="leg_r_link4">
    <kp>1000.0</kp>
    <kd>0.0</kd>
    <mu1>0.0</mu1>
    <maxVel>3.0</maxVel>
    <minDepth>0.0001</minDepth>
    <maxContacts>5</maxContacts>
    <selfCollide>true</selfCollide>
    <dampingFactor>0.01</dampingFactor>
  </gazebo>
  <!-- parallel link (lower-2nd) -->
  <gazebo reference="leg_r_link5">
    <kp>10000.0</kp>
    <kd>0.0</kd>
    <mu1>0.0</mu1>
    <maxVel>3.0</maxVel>
    <minDepth>0.0001</minDepth>
    <maxContacts>5</maxContacts>
    <selfCollide>false</selfCollide>
    <dampingFactor>0.01</dampingFactor>
  </gazebo>
  <!-- toe -->
  <gazebo reference="leg_r_link6">
    <kp>10000.0</kp>
    <kd>0.0</kd>
    <mu1>0.0</mu1>
    <maxVel>3.0</maxVel>
    <minDepth>0.0001</minDepth>
    <maxContacts>5</maxContacts>
    <selfCollide>false</selfCollide>
    <dampingFactor>0.01</dampingFactor>
  </gazebo>
  <gazebo reference="leg_r_link7">
    <kp>10000.0</kp>
    <kd>0.0</kd>
    <mu1>0.0</mu1>
    <maxVel>3.0</maxVel>
    <minDepth>0.0001</minDepth>
    <maxContacts>5</maxContacts>
    <selfCollide>false</selfCollide>
    <dampingFactor>0.01</dampingFactor>
  </gazebo>
  <gazebo reference="leg_r_link8">
    <kp>10000.0</kp>
    <kd>0.0</kd>
    <mu1>1.0</mu1>
    <maxVel>3.0</maxVel>
    <minDepth>0.0001</minDepth>
    <maxContacts>5</maxContacts>
    <selfCollide>false</selfCollide>
    <dampingFactor>0.01</dampingFactor>
  </gazebo>
  <!-- Joints. Femoral first. -->
  <transmission name="leg_r_tran0">
    <type>transmission_interface/SimpleTransmission</type>
    <joint name="leg_r_joint0">
      <hardwareInterface>hardware_interface/EffortJointInterface</hardwareInterface>
    </joint>
    <actuator name="leg_r_motor0">
      <hardwareInterface>hardware_interface/EffortJointInterface</hardwareInterface>
      <mechanicalReduction>1</mechanicalReduction>
    </actuator>
  </transmission>
  <!-- parallel link (upper-1st) -->
  <transmission name="leg_r_tran1">
    <type>transmission_interface/SimpleTransmission</type>
    <joint name="leg_r_joint1">
      <hardwareInterface>hardware_interface/EffortJointInterface</hardwareInterface>
    </joint>
    <actuator name="leg_r_motor1">
      <hardwareInterface>hardware_interface/EffortJointInterface</hardwareInterface>
      <mechanicalReduction>1</mechanicalReduction>
    </actuator>
  </transmission>
  <!-- parallel link (upper-2nd) -->
  <!-- 		<gazebo>
			<plugin name="mimic_plugin" filename="libgazebo_mimic_plugin.so">
				<joint>${name}_joint1</joint>
				<mimicJoint>${name}_joint2</mimicJoint>
				<link>${name}_link1</link>
				<mimicLink>${name}_link2</mimicLink>
				<multiplier>1.0</multiplier>
			</plugin>
		</gazebo> -->
  <!-- knee -->
  <!-- 		<gazebo>
			<plugin name="mimic_plugin" filename="libgazebo_mimic_plugin.so">
				<joint>${name}_joint1</joint>
				<mimicJoint>${name}_joint3</mimicJoint>
				<link>${name}_link1</link>
				<mimicLink>${name}_link3</mimicLink>
				<multiplier>1.0</multiplier>
			</plugin>
		</gazebo> -->
  <!-- parallel link (lower-1st) -->
  <transmission name="leg_r_tran2">
    <type>transmission_interface/SimpleTransmission</type>
    <joint name="leg_r_joint4">
      <hardwareInterface>hardware_interface/EffortJointInterface</hardwareInterface>
    </joint>
    <actuator name="leg_r_motor2">
      <hardwareInterface>hardware_interface/EffortJointInterface</hardwareInterface>
      <mechanicalReduction>1</mechanicalReduction>
    </actuator>
  </transmission>
  <!-- parallel link (lower-2nd) -->
  <!-- 		<gazebo>
			<plugin name="mimic_plugin" filename="libgazebo_mimic_plugin.so">
				<joint>${name}_joint4</joint>
				<mimicJoint>${name}_joint5</mimicJoint>
				<link>${name}_link4</link>
				<mimicLink>${name}_link5</mimicLink>
				<multiplier>1.0</multiplier>
			</plugin>
		</gazebo> -->
  <!-- toe -->
  <!-- 		<gazebo>
			<plugin name="mimic_plugin" filename="libgazebo_mimic_plugin.so">
				<joint>${name}_joint4</joint>
				<mimicJoint>${name}_joint6</mimicJoint>
				<link>${name}_link4</link>
				<mimicLink>${name}_link6</mimicLink>
				<multiplier>1.0</multiplier>
			</plugin>
		</gazebo> -->
  <transmission name="leg_r_tran3">
    <type>transmission_interface/SimpleTransmission</type>
    <joint name="leg_r_joint7">
      <hardwareInterface>hardware_interface/EffortJointInterface</hardwareInterface>
    </joint>
    <actuator name="leg_r_motor3">
      <hardwareInterface>hardware_interface/EffortJointInterface</hardwareInterface>
      <mechanicalReduction>1</mechanicalReduction>
    </actuator>
  </transmission>
  <transmission name="leg_r_tran4">
    <type>transmission_interface/SimpleTransmission</type>
    <joint name="leg_r_joint8">
      <hardwareInterface>hardware_interface/EffortJointInterface</hardwareInterface>
    </joint>
    <actuator name="leg_r_motor4">
      <hardwareInterface>hardware_interface/EffortJointInterface</hardwareInterface>
      <mechanicalReduction>1</mechanicalReduction>
    </actuator>
  </transmission>
  <!-- 		<transmission name="${name}_tran1_rev">
			<type>transmission_interface/SimpleTransmission</type>
			<joint name="${name}_joint1_rev">
				<hardwareInterface>hardware_interface/EffortJointInterface</hardwareInterface>
			</joint>
			<actuator name="${name}_motor1_rev">
				<hardwareInterface>hardware_interface/EffortJointInterface</hardwareInterface>
				<mechanicalReduction>1</mechanicalReduction>
			</actuator>
		</transmission> -->
  <!-- 		<gazebo>
		  	<arg base_joint_name="${name}_joint1"/>
		  	<arg mimic_joint_name="${name}_joint1_rev"/>
		  	<arg base_link_name="${name}_link1"/>
		  	<arg mimic_link_name="${name}_link1_rev"/>
			<plugin name="mimic_plugin" filename="libgazebo_mimic_plugin.so">
				<joint>${base_joint_name}</joint>
				<mimicJoint>${mimic_joint_name}</mimicJoint>
				<link>${base_link_name}</link>
				<mimicLink>${mimic_link_name}</mimicLink>
				<multiplier>-1.0</multiplier>
			</plugin>
		</gazebo> -->
</robot>
